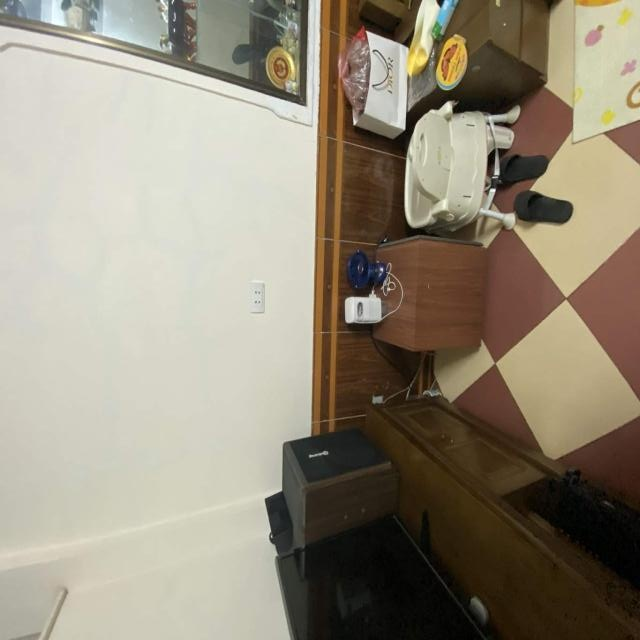outlet: (249, 281, 265, 314)
